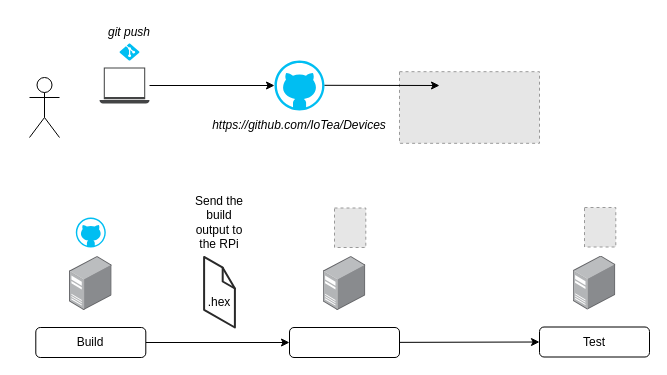
The diagram is 667 pixels wide and 375 high, and some of its shapes have lost their labels. Grey dashed boxes stand in for pictures. The box of each missing label's shape, as (x1, y1, x2, y2) in pixels:
Developer: (28, 76, 60, 138)
Flash: (288, 326, 400, 358)
